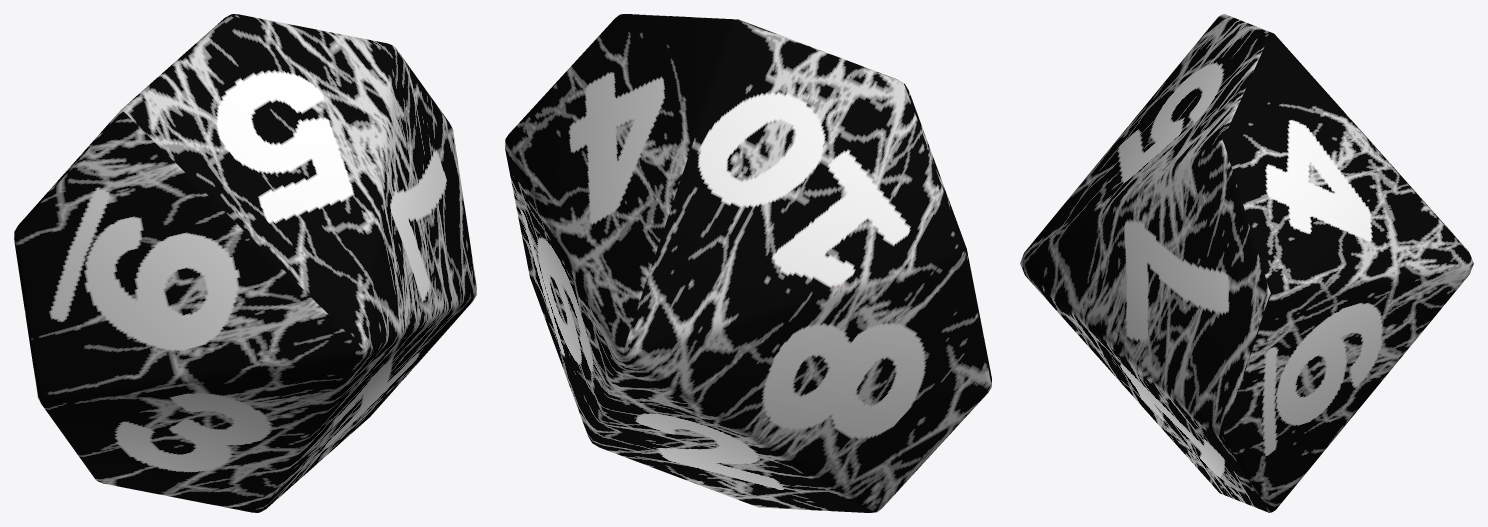
3 views of the same model, side by side, from view 1: azimuth 30°, elevation 25°; view 2: azimuth 150°, elevation 25°; view 3: azimuth 270°, elevation 25° (orthographic). The views are drawn at different scales.
Parts seen in each view (by area): view 1: 10White_10White_0; view 2: 10White_10White_0; view 3: 10White_10White_0.
Boxes of the visible parts, left/top/right/bottom form: 10White_10White_0: left=14, top=14, right=476, bottom=512; 10White_10White_0: left=505, top=14, right=991, bottom=512; 10White_10White_0: left=1020, top=14, right=1473, bottom=512.
Bounding box in the file's own units: 1.51 × 1.58 × 1.41.
Materials: 1 (1 with a texture image).
